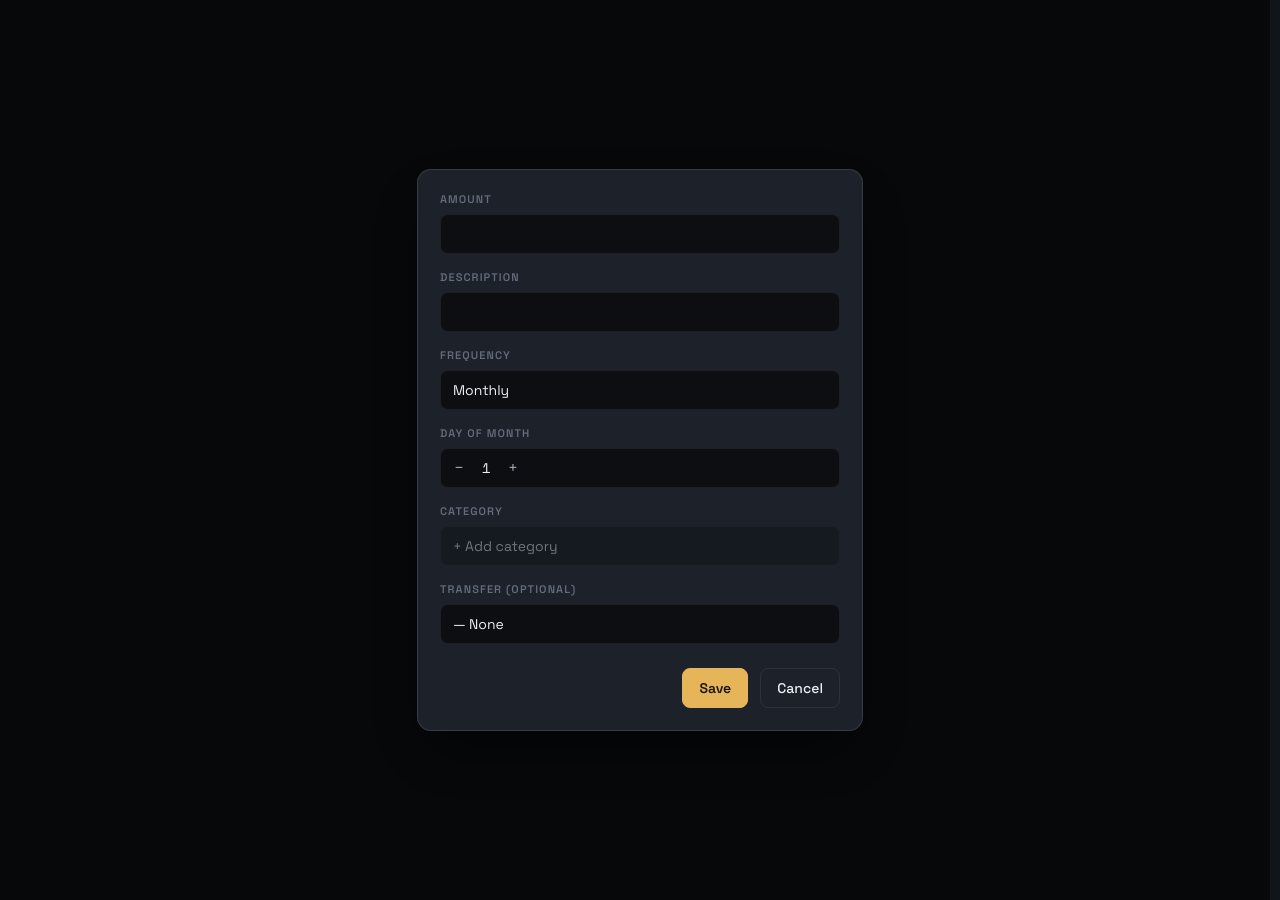
Scenario: RecurringTransactionModal — Transfer Direction › hides the direction chips again when the transfer account is cleared
The image size is (1280, 900).
Select "DKB Reserve" in the dropdown labelled "Transfer (optional)" at (640, 624), box [440, 604, 840, 644]
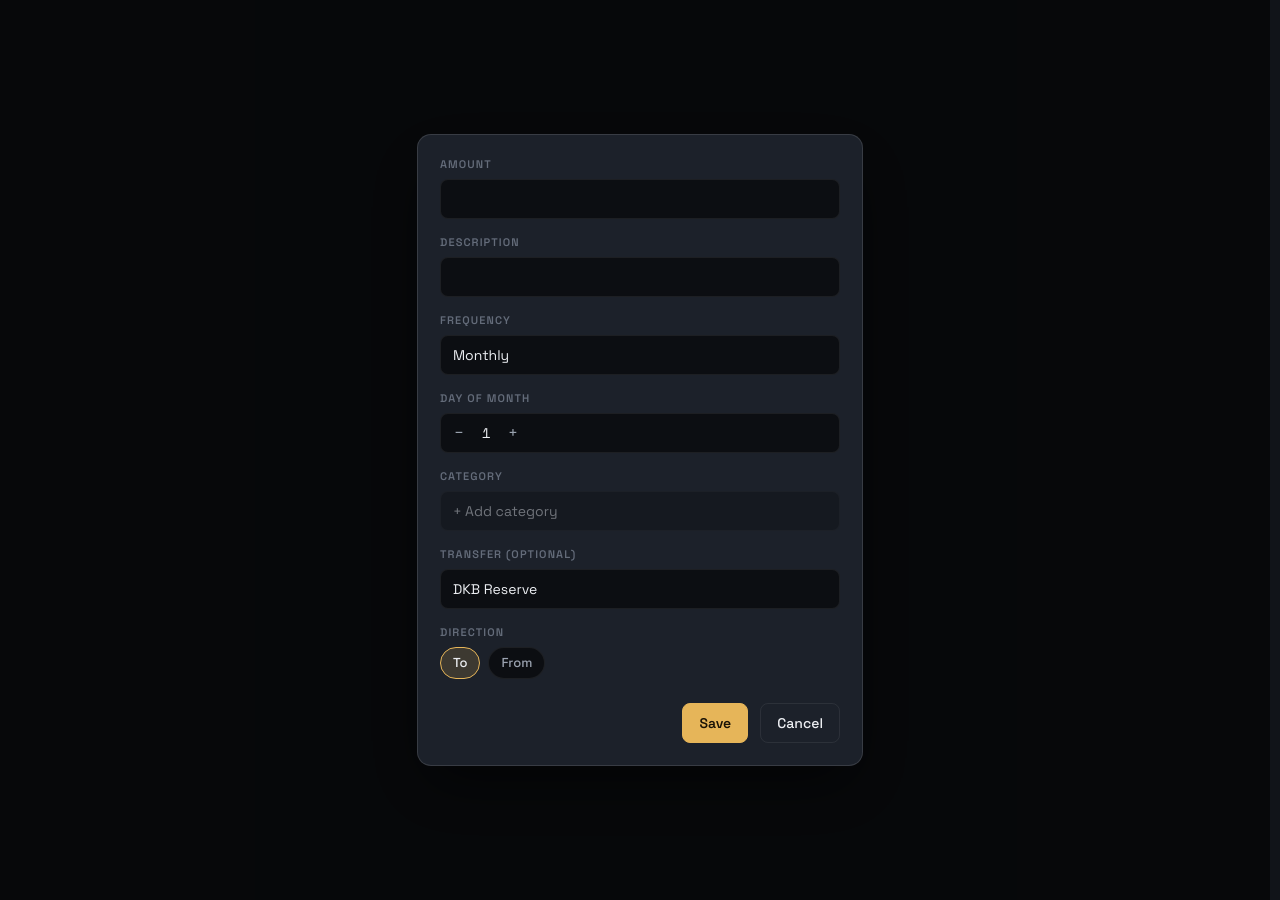
Select "— None" in the dropdown labelled "Transfer (optional)" at (640, 589), box [440, 569, 840, 609]
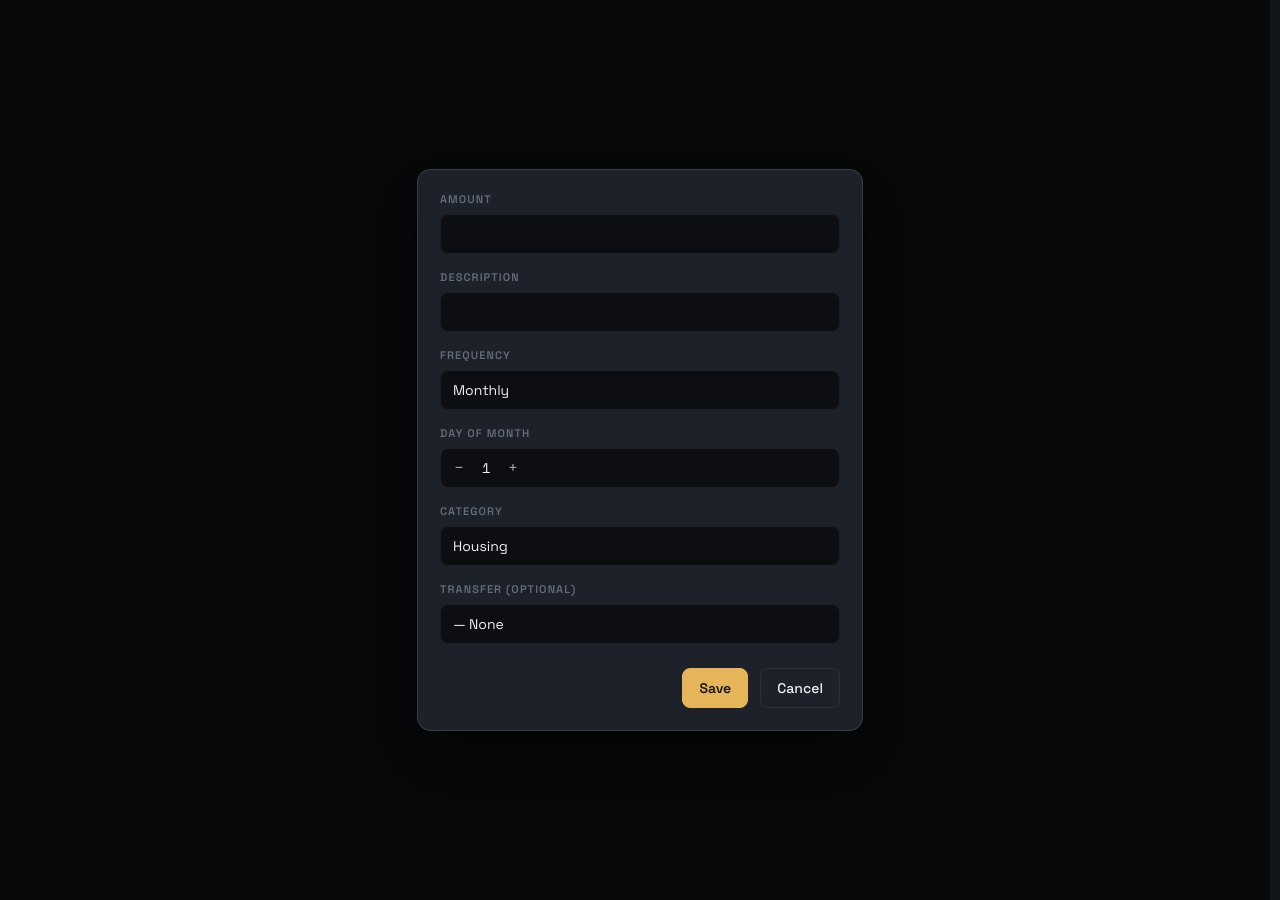
Expected: the button "To" is gone
